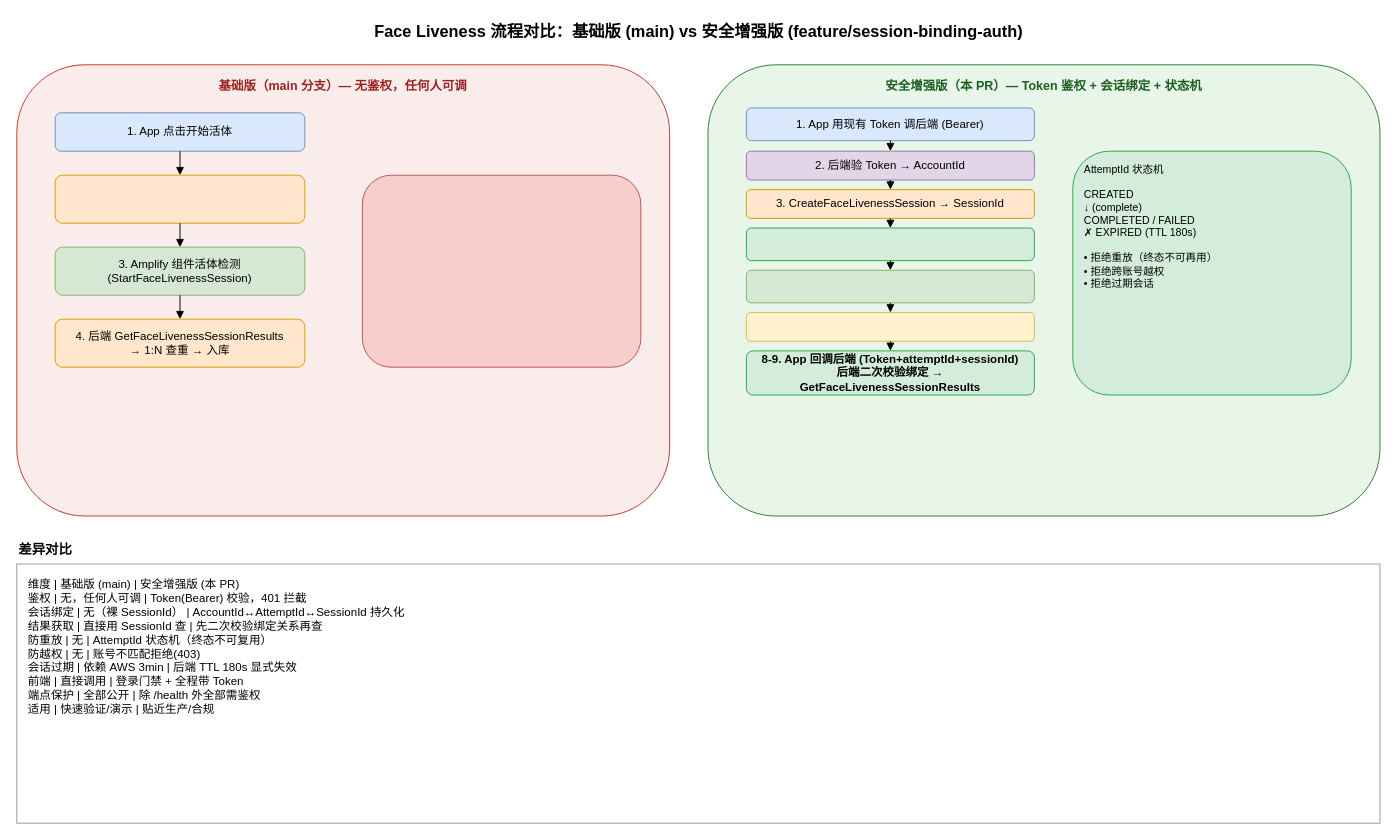
Image size: 1397x840. Some labels were removed from this diagram. The centre of each missing label's shape, as x and y in pixels:
2. 后端 CreateFaceLivenessSession → 直接返回裸 SessionId（无绑定）: point (179, 198)
4. 持久化绑定 AccountId ↔ AttemptId ↔ SessionId: point (889, 244)
5-6. App 取临时凭证 → StartFaceLivenessSession: point (889, 286)
7. AWS 校验 IAM 权限 + SessionId 有效性: point (889, 326)
⚠ 风险 • 任何人可直接调用后端 API • SessionId 可被盗用 / 串改 • 无防重放、无会话-账号绑定: point (501, 270)
